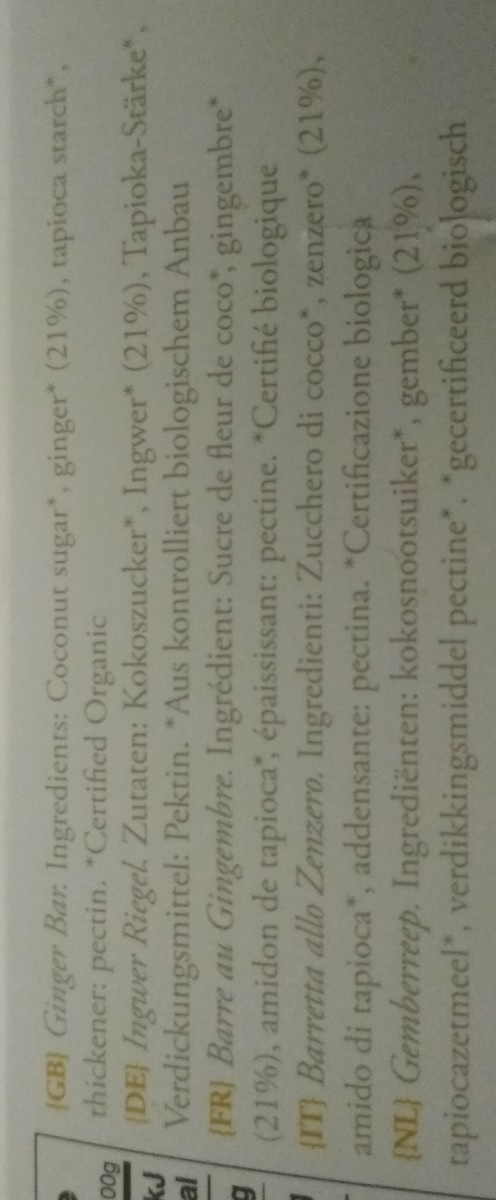ingredients: (295, 42, 398, 1165), (386, 78, 489, 1177), (197, 65, 297, 1148), (21, 57, 116, 1121), (116, 30, 203, 1127)
